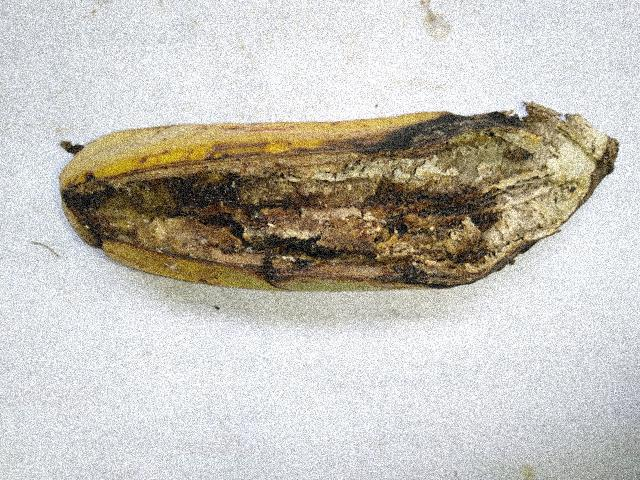rotten: (49, 91, 612, 315)
